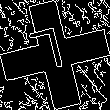L_S: (34, 27, 76, 83)
